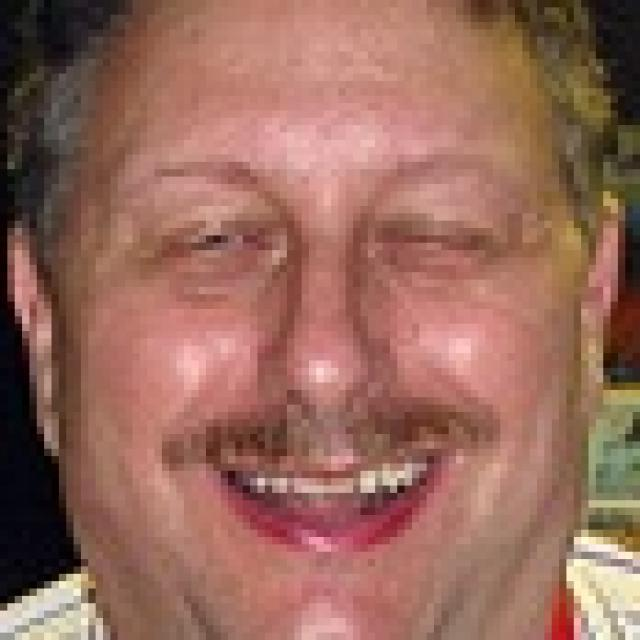close: (359, 146, 522, 282), (128, 147, 278, 276)
